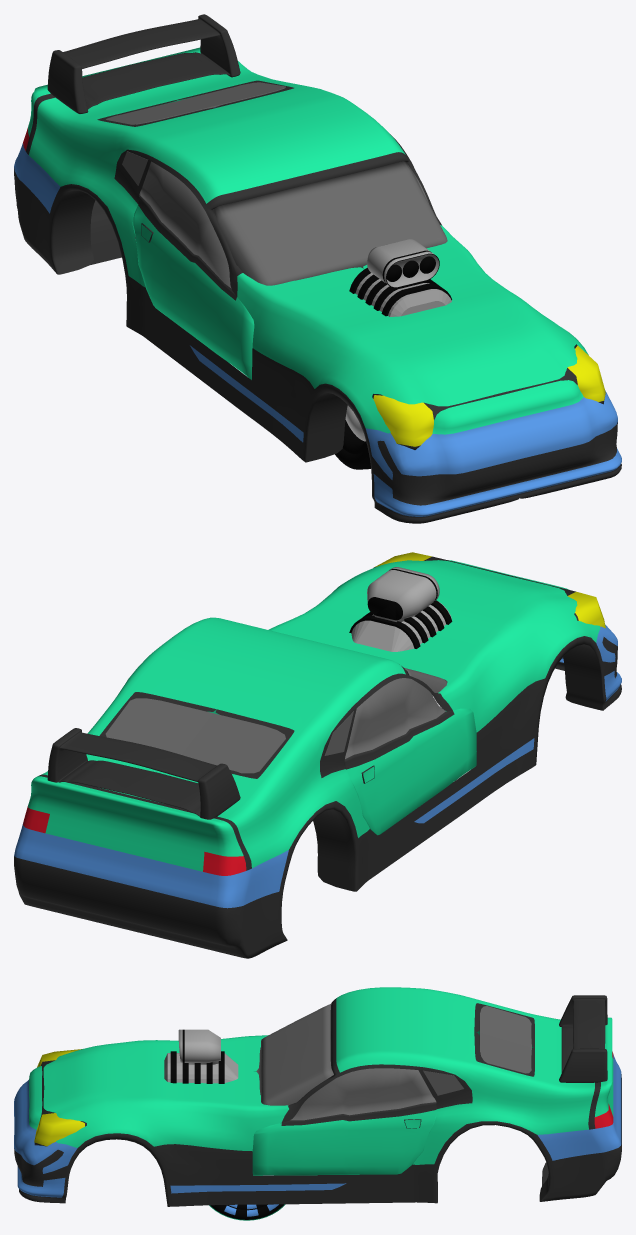
The model's file is Car3_Final.fbx.
3 views of the same model, one above another, from view 1: azimuth 30°, elevation 25°; view 2: azimuth 150°, elevation 25°; view 3: azimuth 270°, elevation 25° (orthographic). The views are drawn at different scales.
Visible parts, largest first — view 1: CarMain, WindowFront, Doors, Spoiler, FrontLights, EngineBotom, EngineTop, WindowBack, WheelsBack; view 2: CarMain, Doors, Spoiler, WindowBack, EngineBotom, EngineTop, FrontLights, WindowsBackSmall; view 3: CarMain, Doors, WindowFront, Spoiler, WindowBack, EngineBotom, FrontLights, EngineTop, WheelsBack, WindowsBackSmall.
Boxes of the visible parts, x1,y1,x2,y2 form: CarMain: (14,47,621,523); WindowFront: (213,161,447,285); Doors: (132,161,428,379); Spoiler: (47,14,240,113); FrontLights: (372,344,605,449); EngineBotom: (349,267,451,316); EngineTop: (367,239,439,287); WindowBack: (106,82,285,124); WheelsBack: (335,405,370,469); CarMain: (14,560,621,958); Doors: (207,678,476,835); Spoiler: (47,728,240,819); WindowBack: (105,698,285,773); EngineBotom: (349,600,452,651); EngineTop: (367,567,439,621); FrontLights: (373,552,605,628); WindowsBackSmall: (324,711,353,755); CarMain: (14,987,621,1206); Doors: (252,1068,437,1175); WindowFront: (256,1004,333,1105); Spoiler: (559,995,607,1082); WindowBack: (479,1006,531,1073); EngineBotom: (164,1051,238,1083); FrontLights: (34,1049,86,1146); EngineTop: (178,1029,220,1064); WheelsBack: (209,1175,285,1220); WindowsBackSmall: (423,1070,463,1095).
Size of the model in its own units: 228 by 243 by 689.
